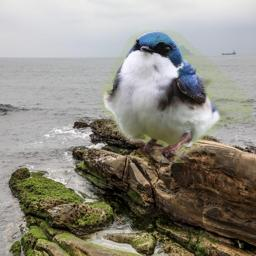Swallow: (101, 30, 253, 163)
